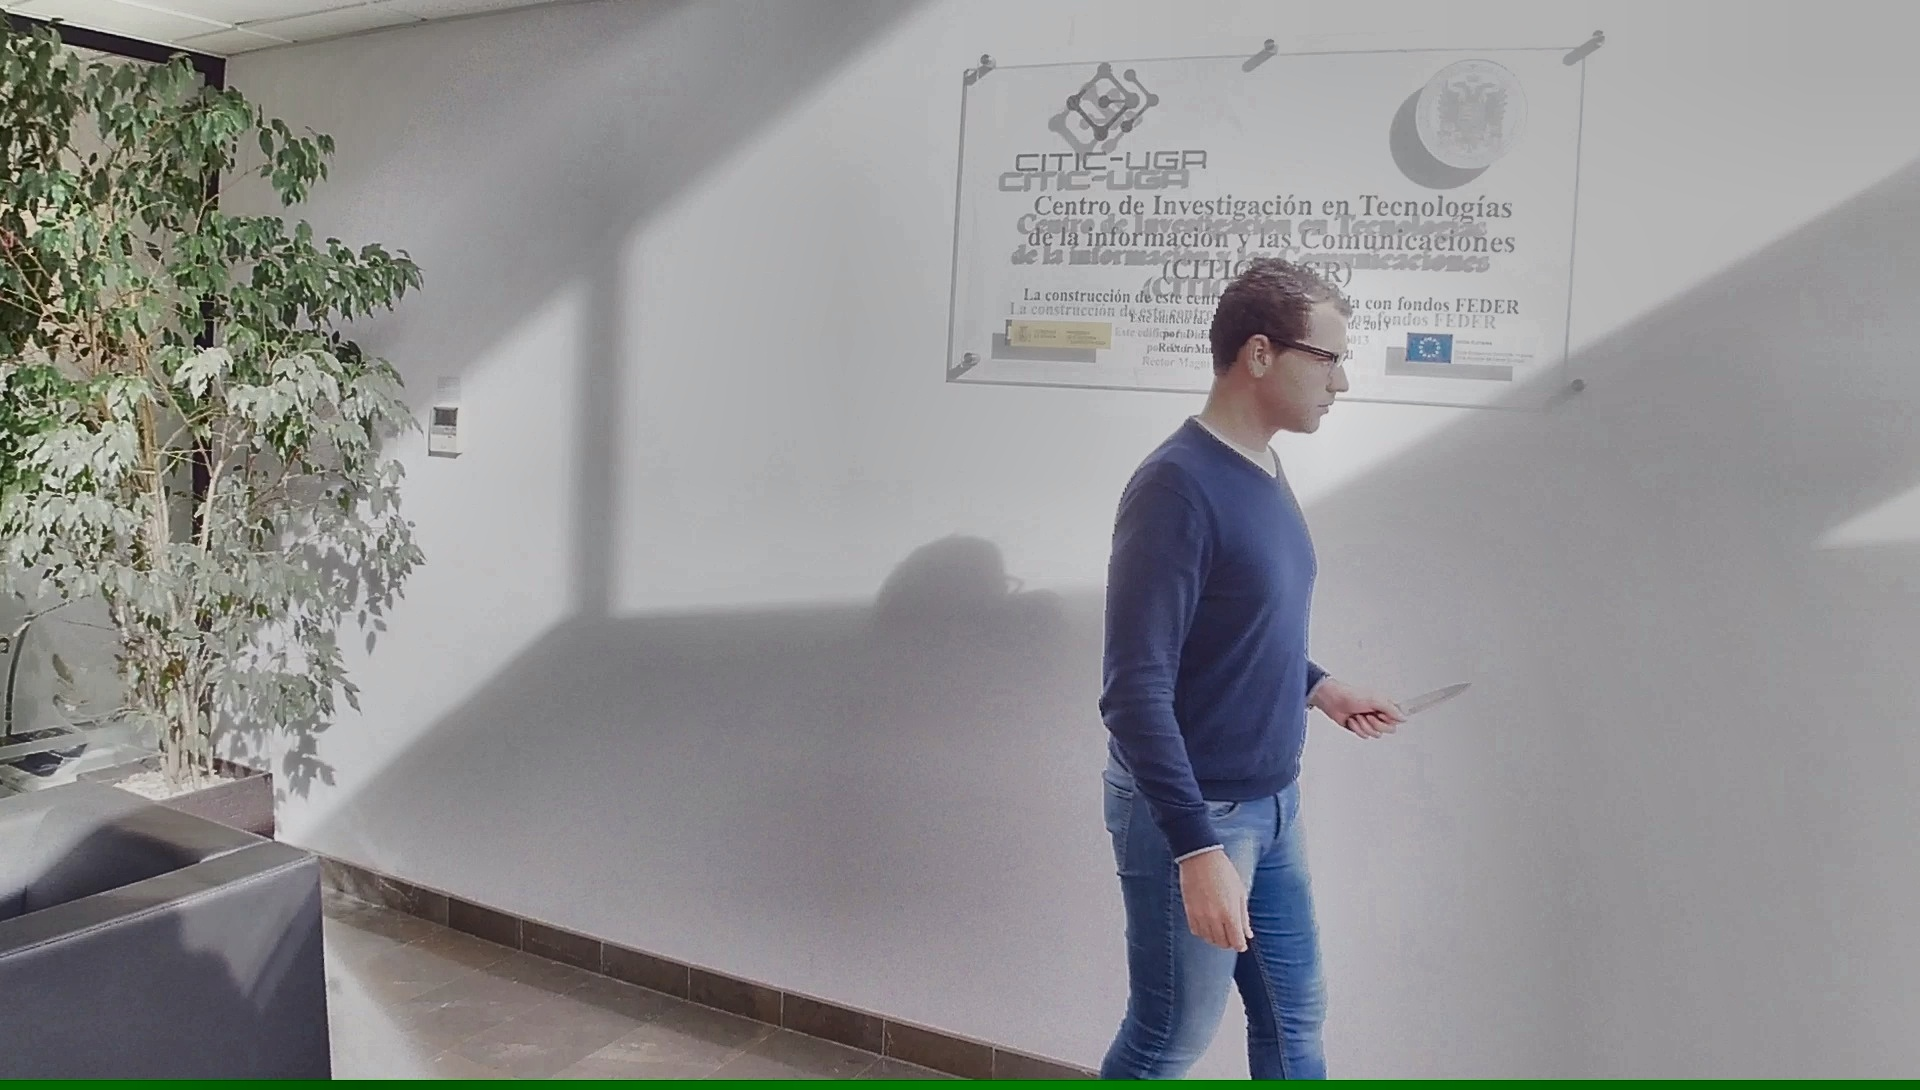knife: (1340, 671, 1484, 741)
